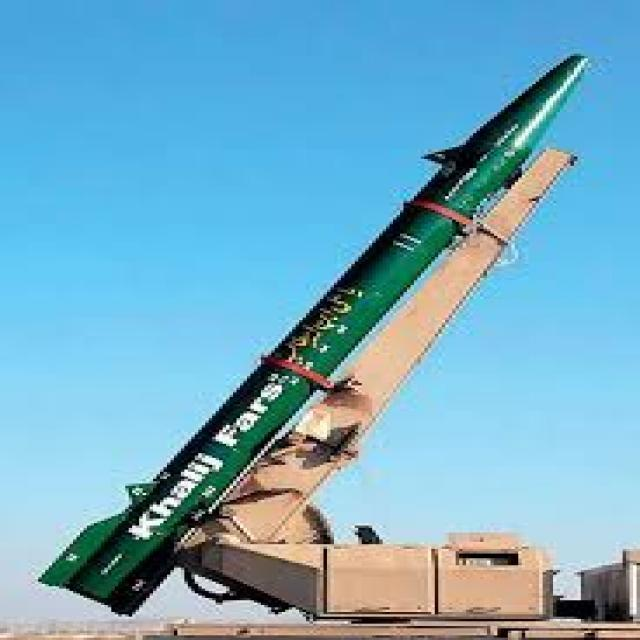Missile: (14, 3, 640, 632)
